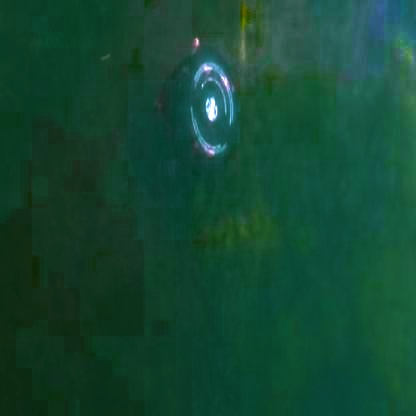can: (116, 51, 257, 242)
